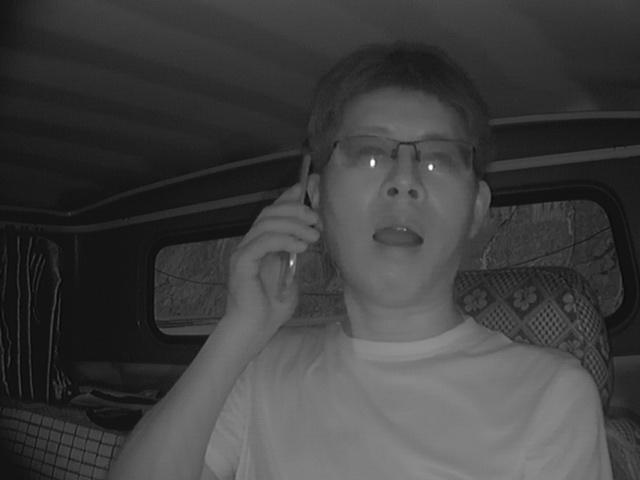hand: (221, 187, 321, 328)
